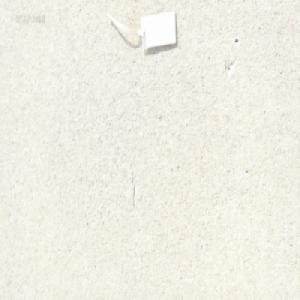LuggageTag: (104, 9, 178, 56)
